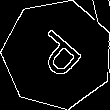P_SE: (26, 24, 89, 85)
